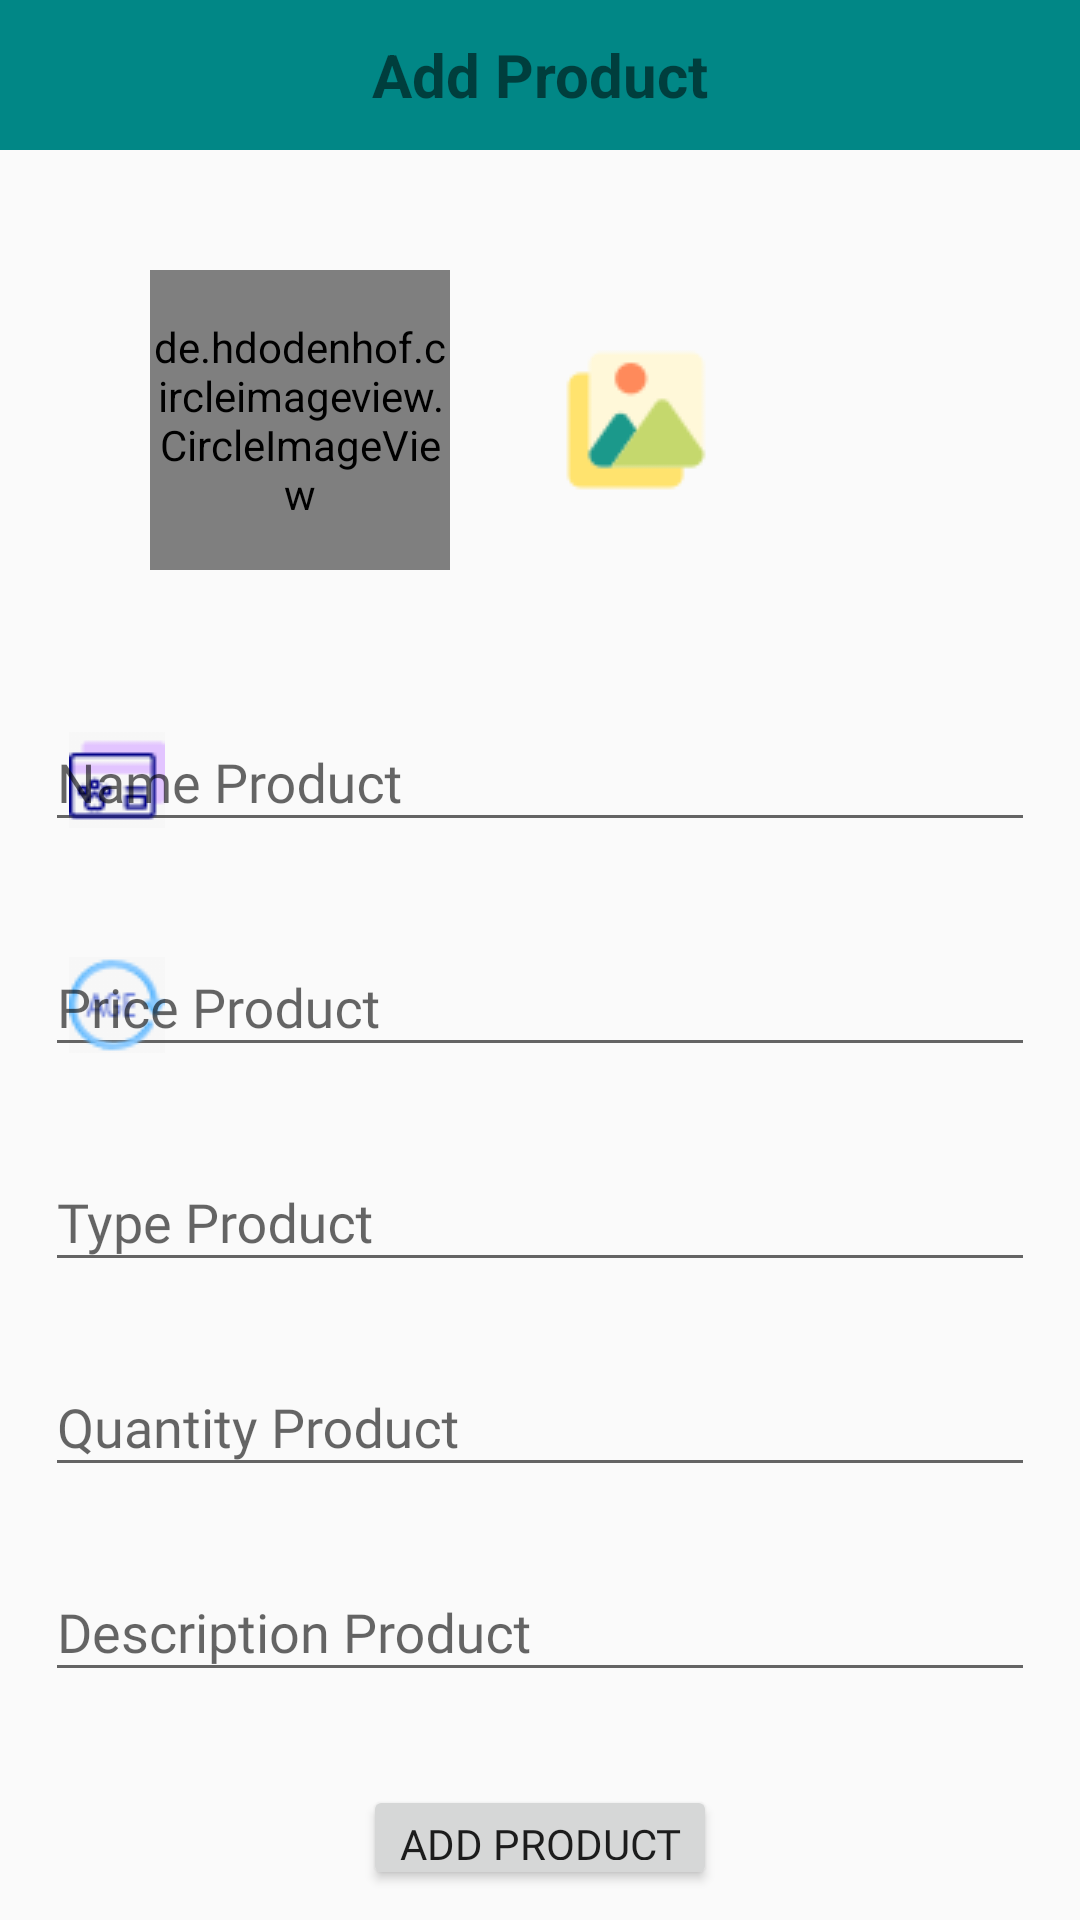

Icon click points for this 1080px×1920px phone screenshot, format (x,y):
photo album: (636,422)
